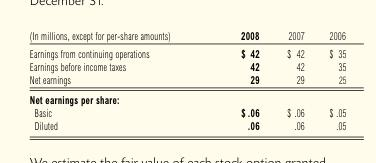table: (28, 28, 345, 131)
table column: (28, 28, 204, 131), (204, 28, 272, 131), (272, 28, 316, 131), (316, 28, 345, 131)
table column header: (28, 28, 345, 43)
table projected row header: (28, 89, 345, 105)
table row: (28, 72, 345, 89), (28, 43, 345, 59), (28, 89, 345, 105), (28, 28, 345, 43), (28, 59, 345, 72), (28, 105, 345, 118), (28, 118, 345, 131)
